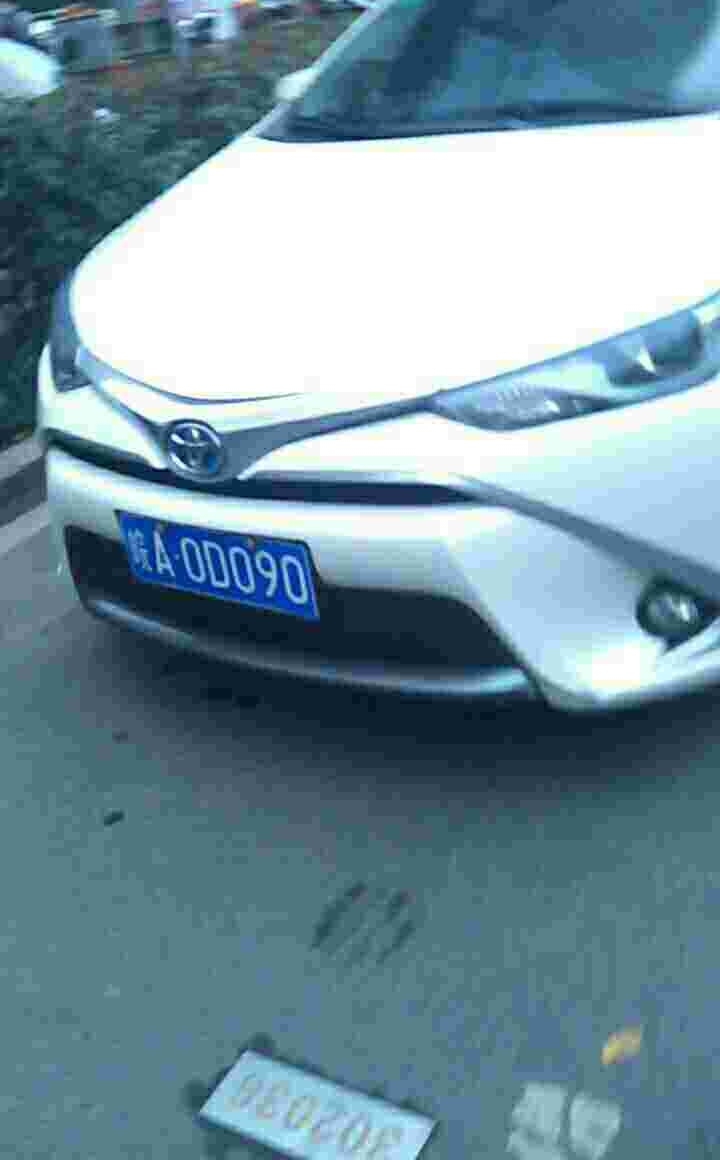plate: (111, 506, 324, 623)
